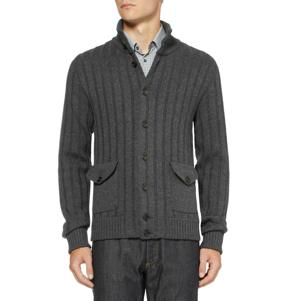C_cardigan sweater: (54, 34, 234, 254)
